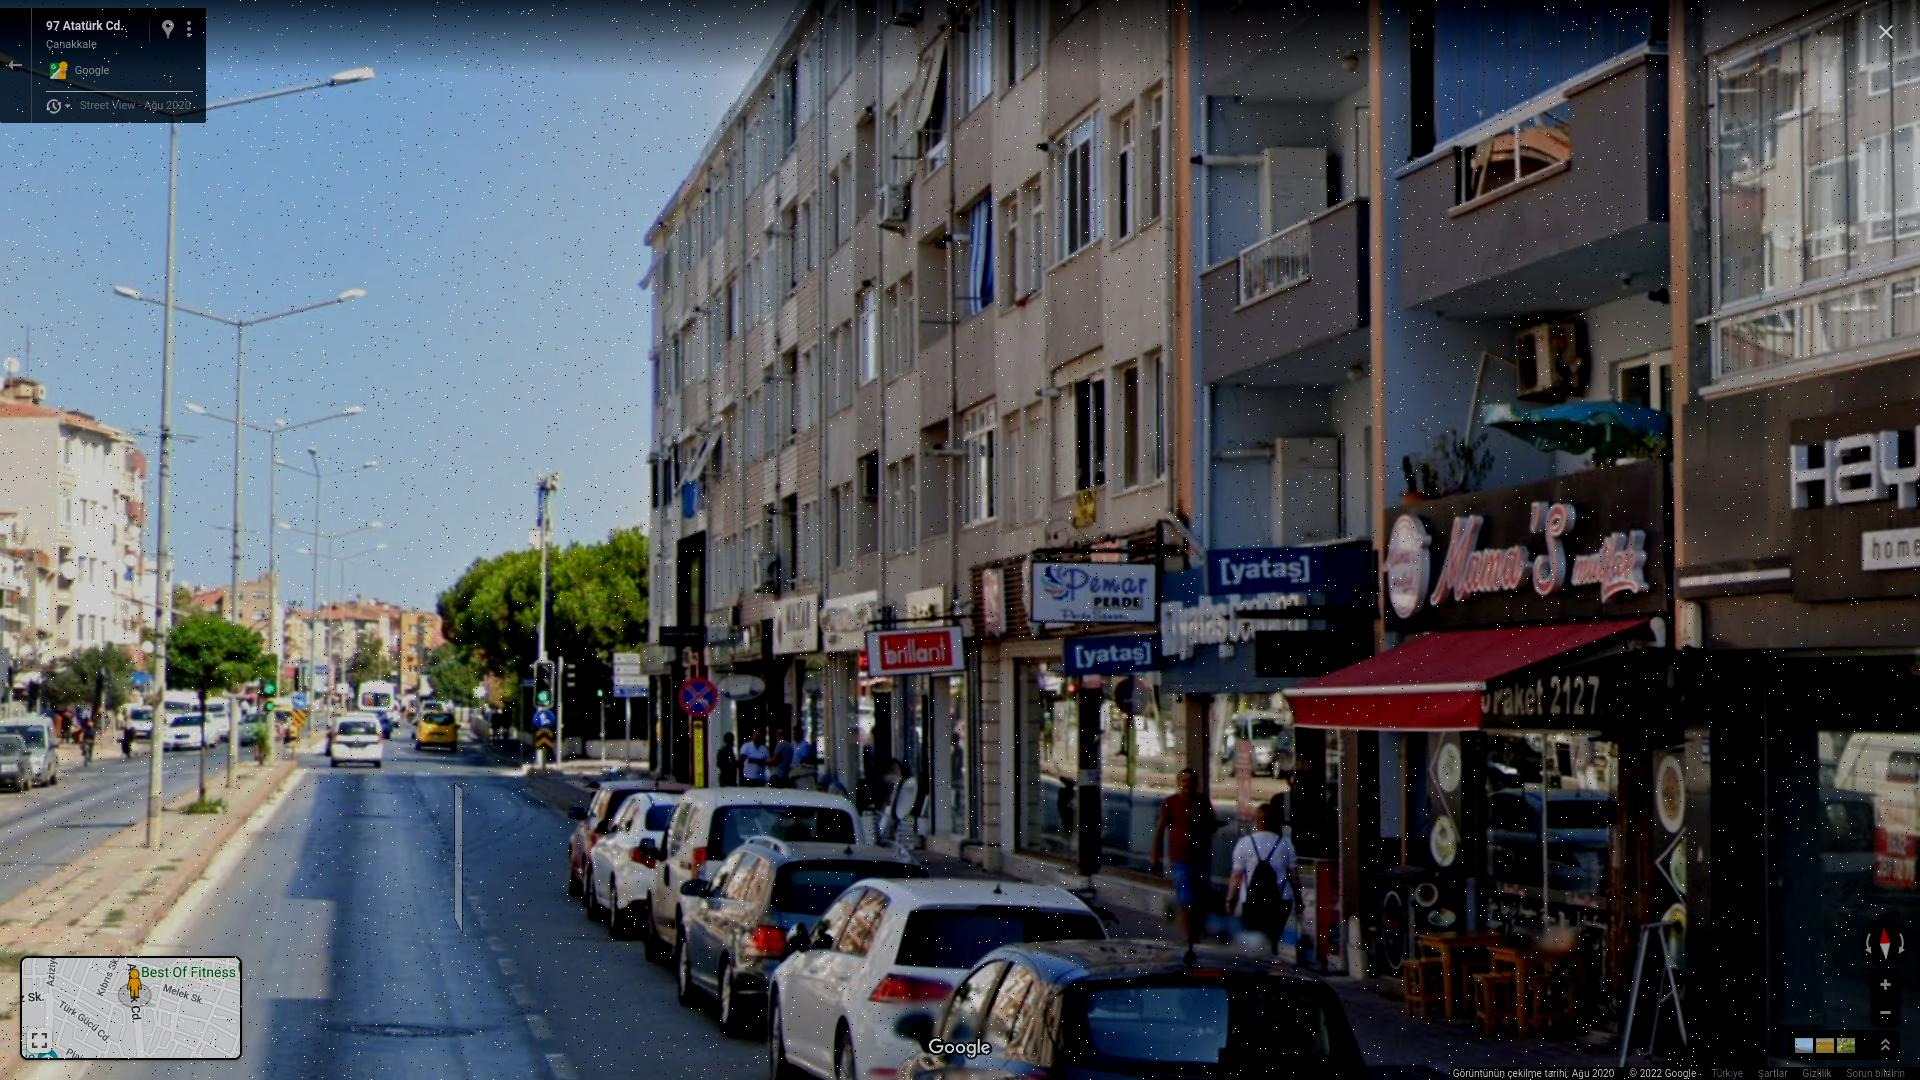greenlight: (533, 661, 555, 711), (257, 654, 278, 699)
